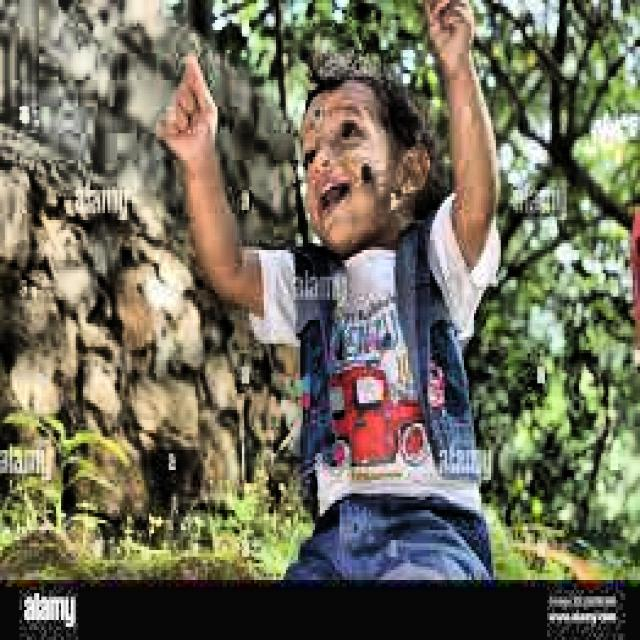Human: (175, 0, 550, 639)
